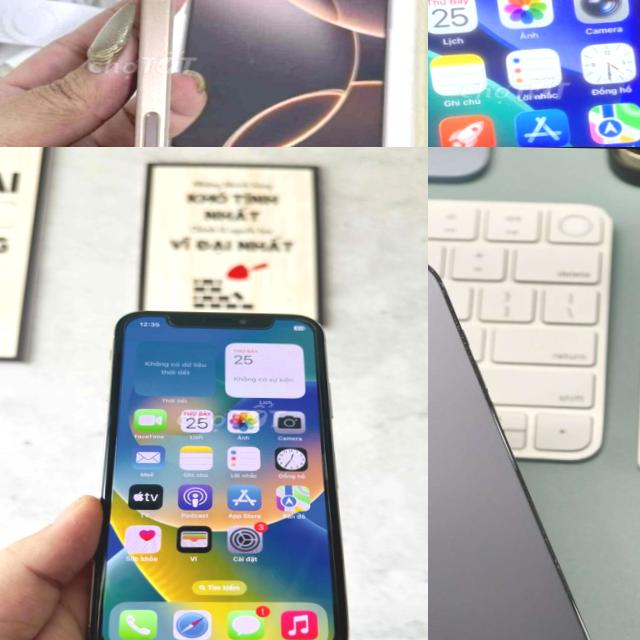gen_12_13: (428, 0, 640, 147)
gen_14: (428, 243, 628, 640)
gen_16: (80, 0, 210, 147)
gen_x_xs: (76, 302, 366, 640)
